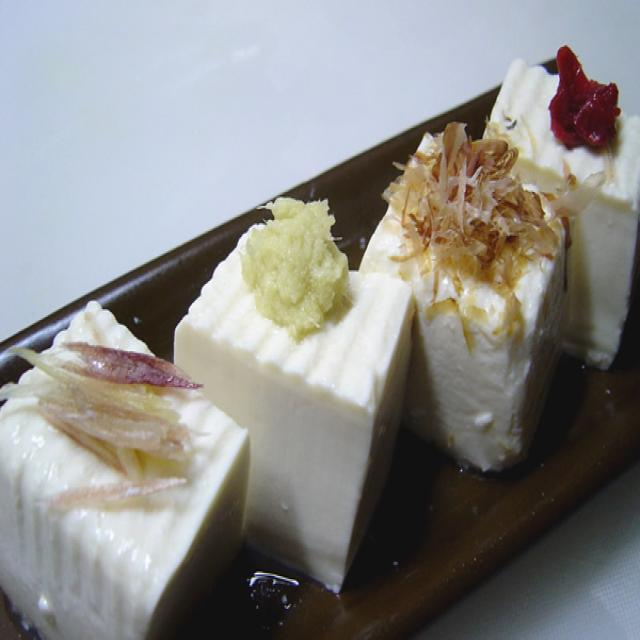豆腐料理: (0, 39, 640, 640)
